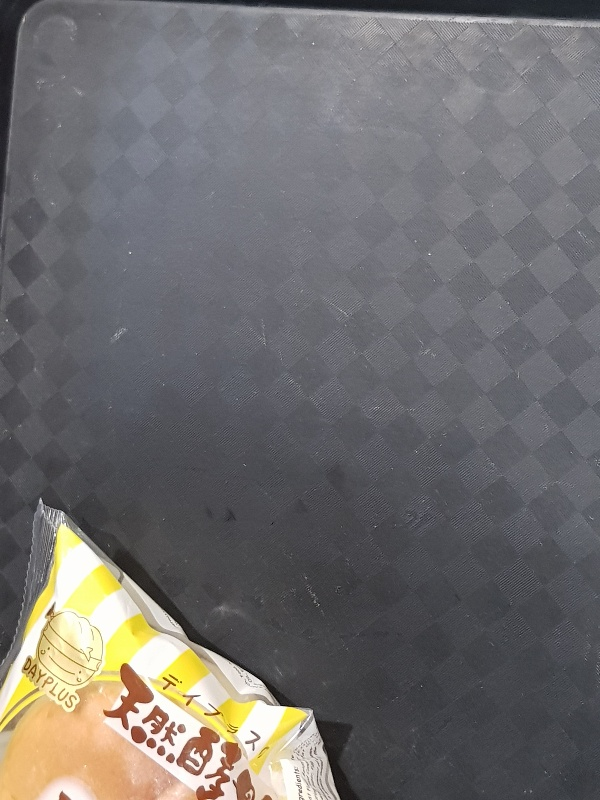Dayplus Banana: (1, 496, 342, 800)
